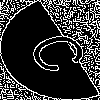C: (25, 25, 100, 77)
